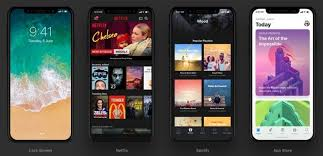iphone: (5, 2, 74, 140)
iphone10: (5, 3, 74, 141)
